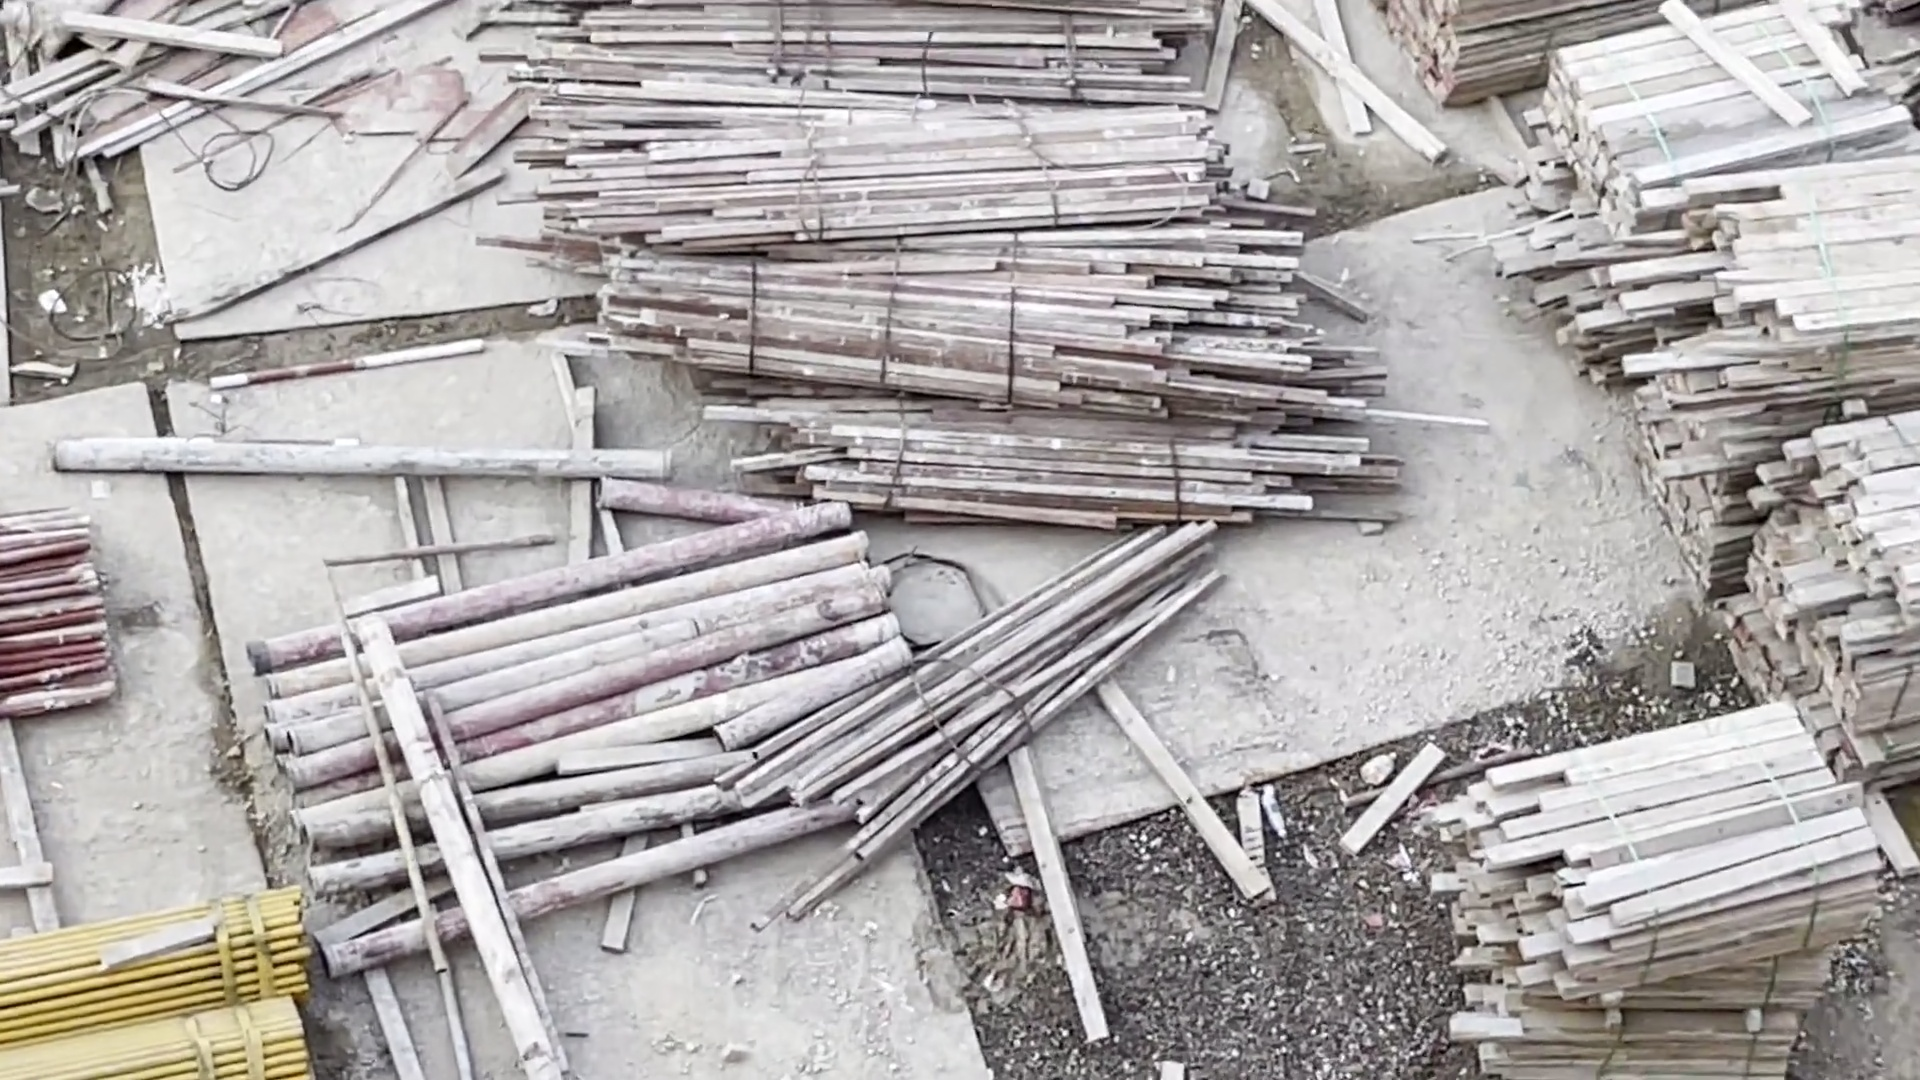scaffold: (280, 556, 899, 961)
wood: (530, 1, 1358, 522), (1455, 713, 1883, 1080), (752, 527, 1218, 860), (1524, 1, 1899, 390), (1644, 157, 1920, 607), (1741, 415, 1919, 794), (1395, 1, 1673, 116)
